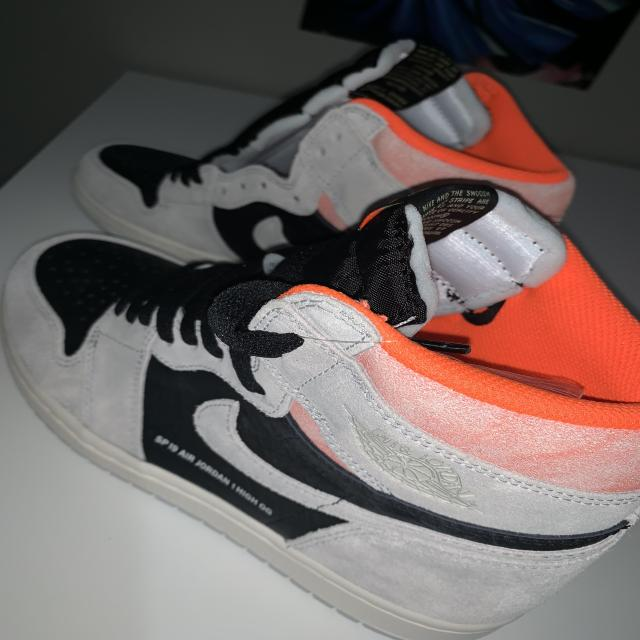shoe: (0, 185, 640, 640), (15, 18, 592, 276)
